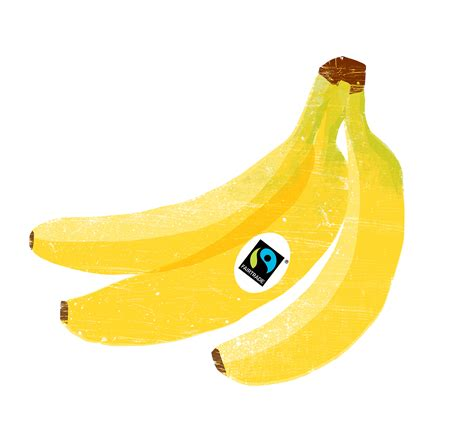banana: (61, 140, 352, 353), (209, 123, 410, 389), (26, 137, 319, 277)
